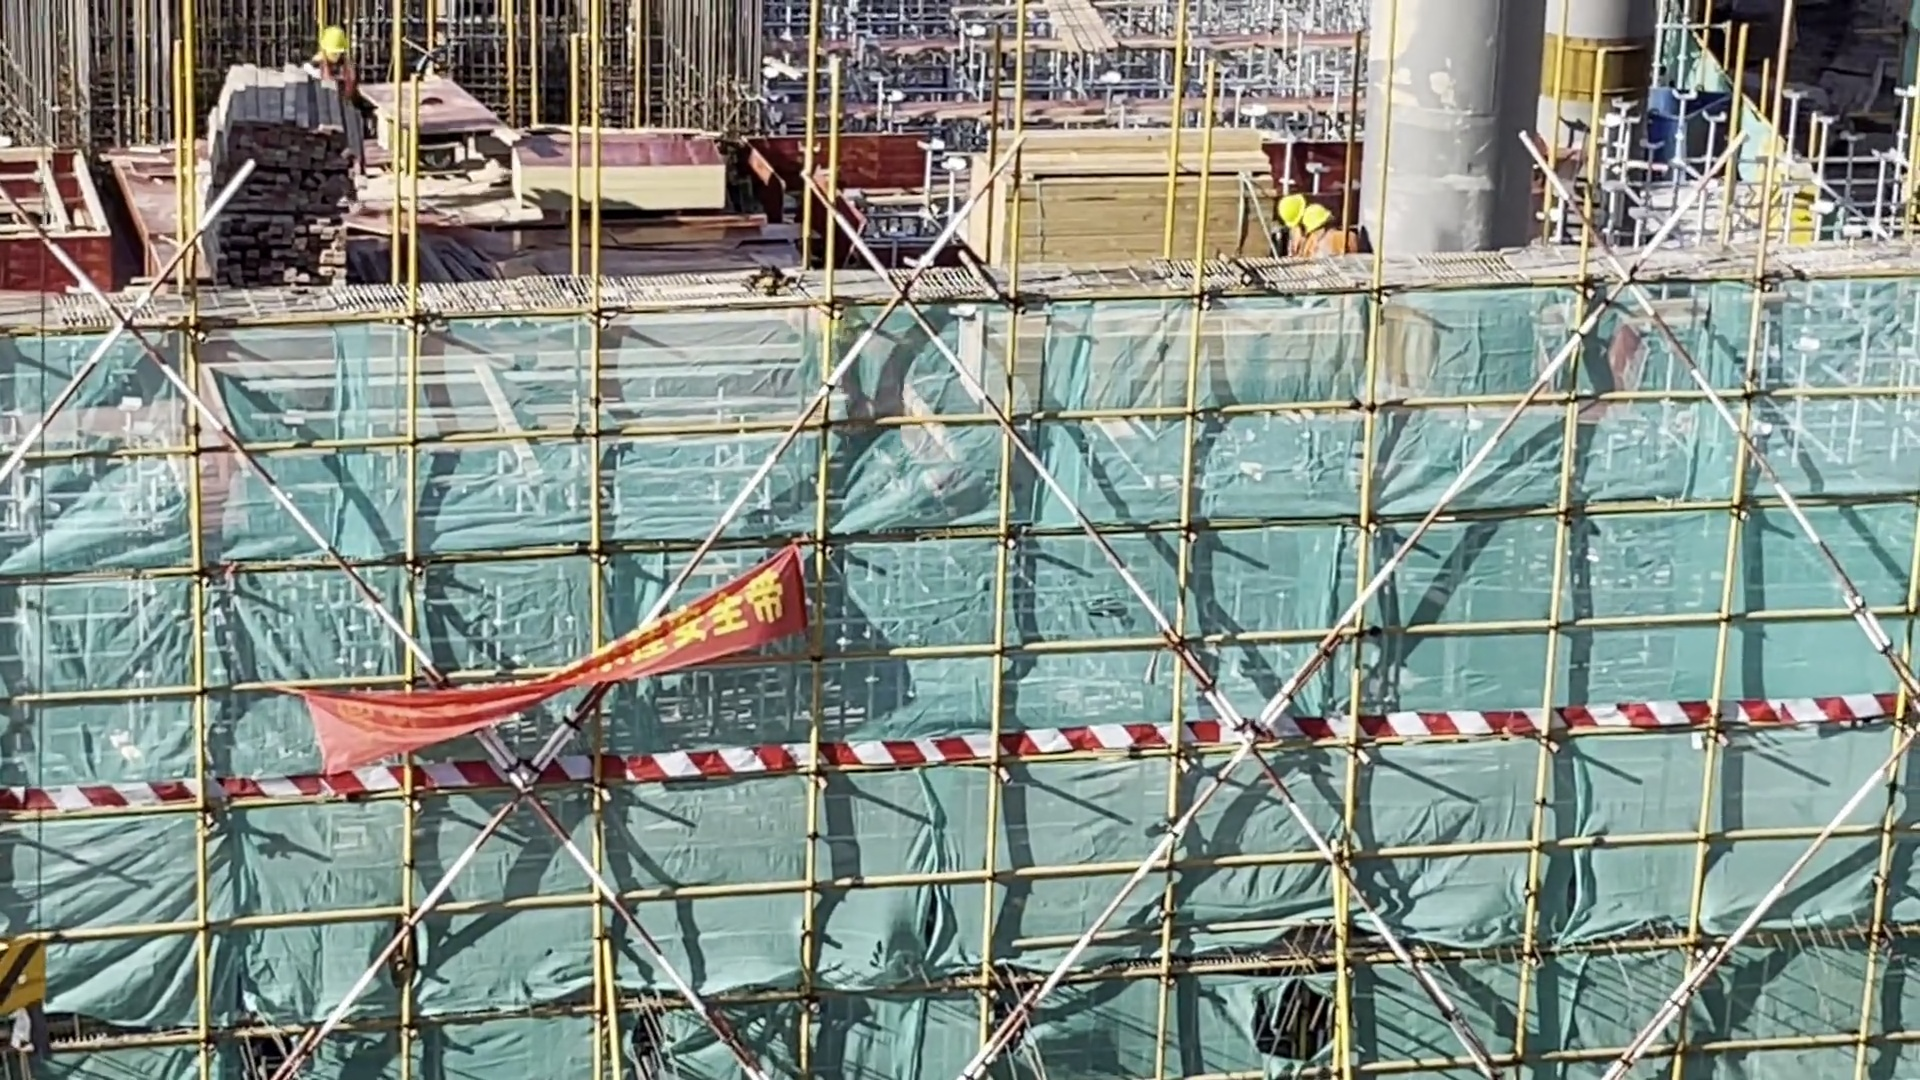cutter: (407, 92, 456, 109)
helmet: (1276, 189, 1358, 233), (314, 26, 345, 74)
hook: (3, 922, 78, 1066)
person: (1261, 188, 1362, 275), (292, 17, 354, 96)
slogan: (300, 537, 819, 807)
wood: (966, 117, 1280, 278), (202, 62, 365, 291)
